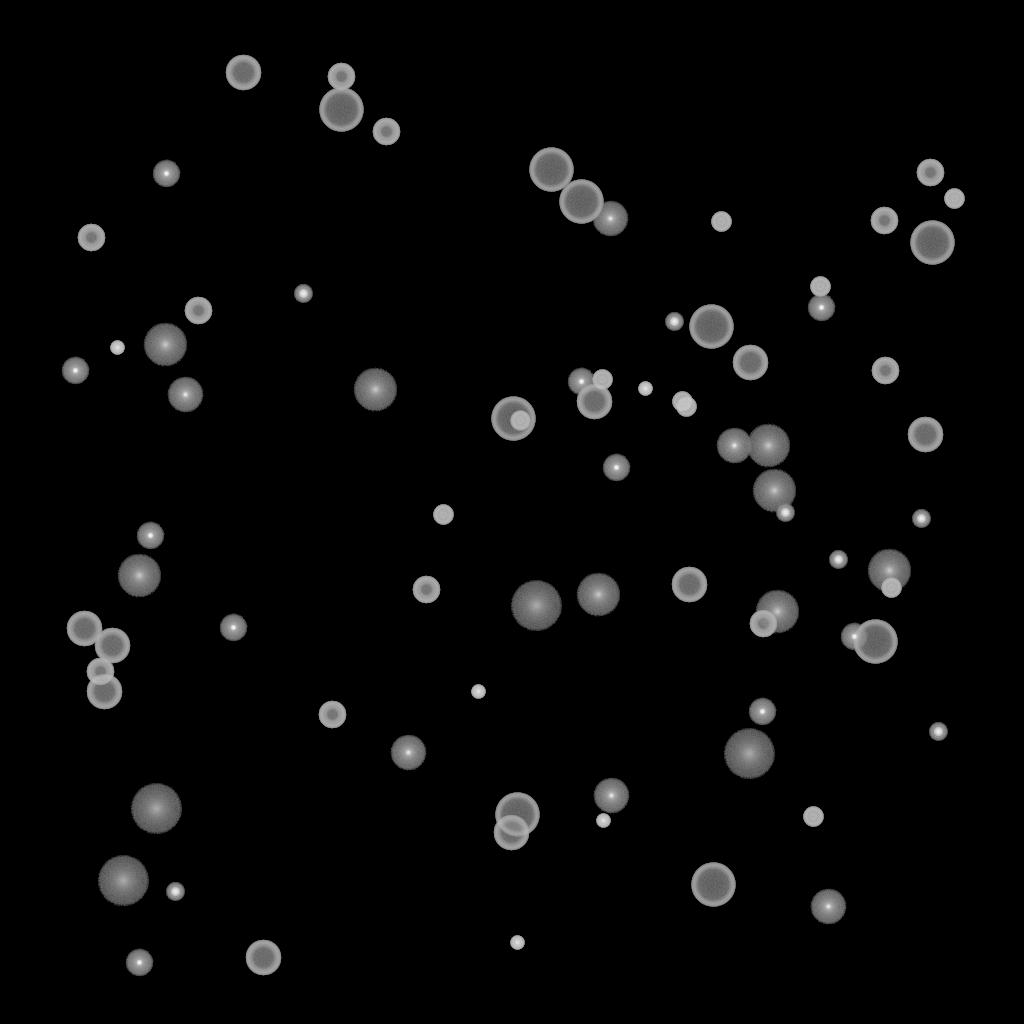depth:-10: (602, 454, 630, 482), (840, 623, 868, 651), (152, 160, 180, 188), (61, 357, 89, 385), (748, 698, 776, 726), (807, 294, 835, 322), (136, 522, 164, 550), (219, 614, 247, 642), (125, 949, 153, 977), (567, 368, 595, 396)
depth:-20: (776, 504, 794, 522), (829, 551, 847, 569), (665, 313, 683, 331), (294, 285, 312, 303), (929, 723, 947, 741), (166, 883, 184, 901), (912, 510, 930, 528)
depth:-30: (471, 685, 485, 699), (110, 341, 124, 355), (510, 936, 524, 950), (638, 382, 652, 396), (596, 814, 610, 828)
depth:-40: (711, 212, 731, 232), (944, 189, 964, 209), (676, 397, 696, 417), (510, 411, 530, 431), (803, 807, 823, 827), (881, 578, 901, 598), (672, 392, 692, 412), (592, 370, 612, 390), (433, 505, 453, 525), (810, 277, 830, 297)
depth:-50: (870, 207, 898, 235), (412, 576, 440, 604), (184, 297, 212, 325), (871, 357, 899, 385), (916, 159, 944, 187), (318, 701, 346, 729), (77, 224, 105, 252), (86, 658, 114, 686), (327, 63, 355, 91), (372, 118, 400, 146), (749, 610, 777, 638)
depth:-60: (245, 940, 281, 976), (86, 674, 122, 710), (732, 345, 768, 381), (66, 611, 102, 647), (94, 628, 130, 664), (671, 567, 707, 603), (907, 417, 943, 453), (225, 55, 261, 91), (493, 815, 529, 851), (576, 384, 612, 420)
depth:-70: (495, 793, 539, 837), (491, 397, 535, 441), (853, 620, 897, 664), (529, 148, 573, 192), (689, 305, 733, 349), (910, 221, 954, 265), (691, 863, 735, 907), (319, 88, 363, 132), (559, 180, 603, 224)
depth:0: (810, 889, 846, 925), (390, 735, 426, 771), (716, 428, 752, 464), (593, 778, 629, 814), (167, 377, 203, 413), (592, 201, 628, 237)
depth:10: (143, 323, 187, 367), (353, 368, 397, 412), (752, 469, 796, 513), (755, 590, 799, 634), (576, 573, 620, 617), (117, 554, 161, 598), (867, 549, 911, 593), (746, 424, 790, 468)
depth:20: (723, 729, 775, 779), (510, 581, 562, 631), (130, 784, 182, 834), (97, 856, 149, 906)
